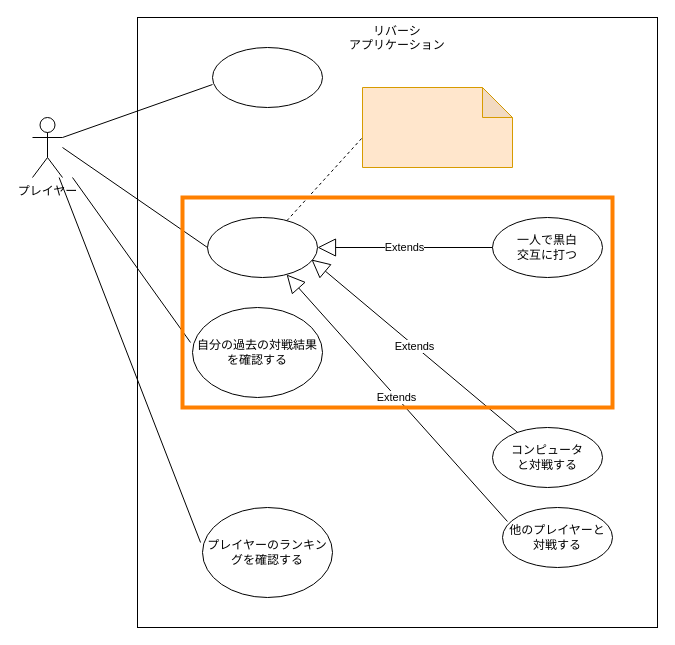
The diagram is 675 pixels wide and 645 high, and some of its shapes have lost their labels. Each missing label, with the centre of its shape:
・対戦を開始する ・盤面を見る ・石を打つ ・勝敗を確認する: (437,127)
会員登録・ ログインする: (267,77)
対戦する: (262,247)
